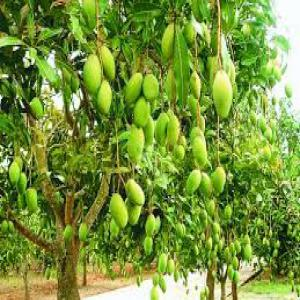Tree: (4, 2, 293, 289)
